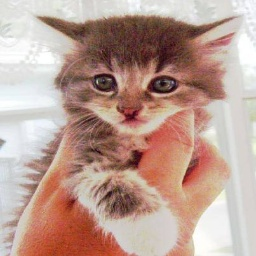cat: (29, 10, 233, 256)
